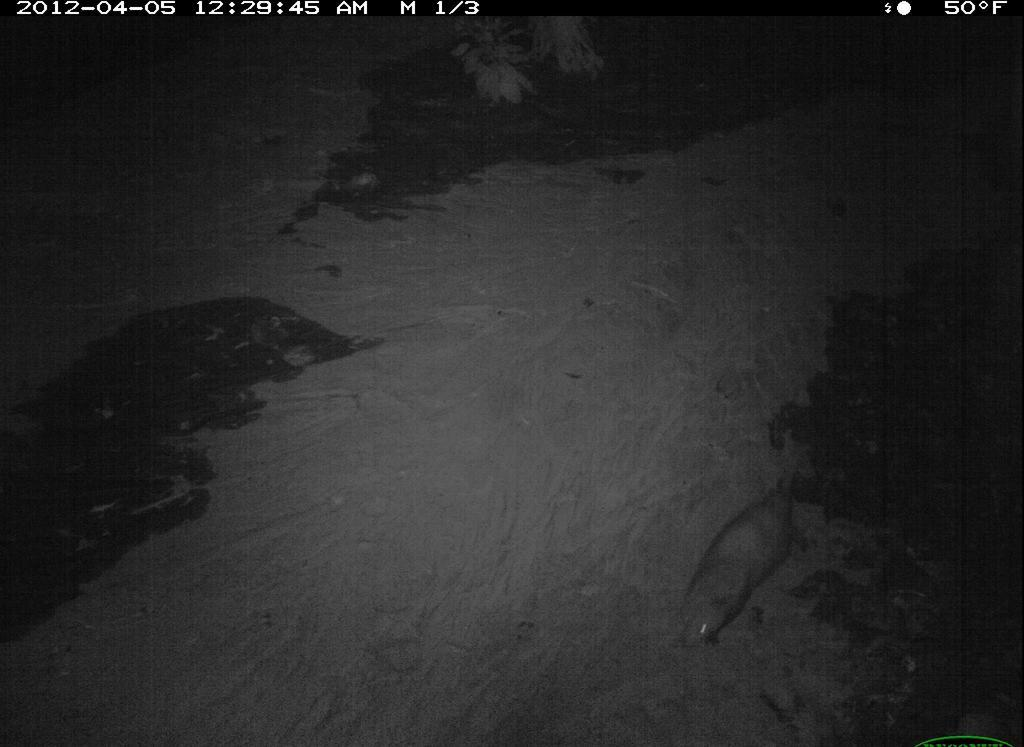opossum: (665, 473, 808, 657)
